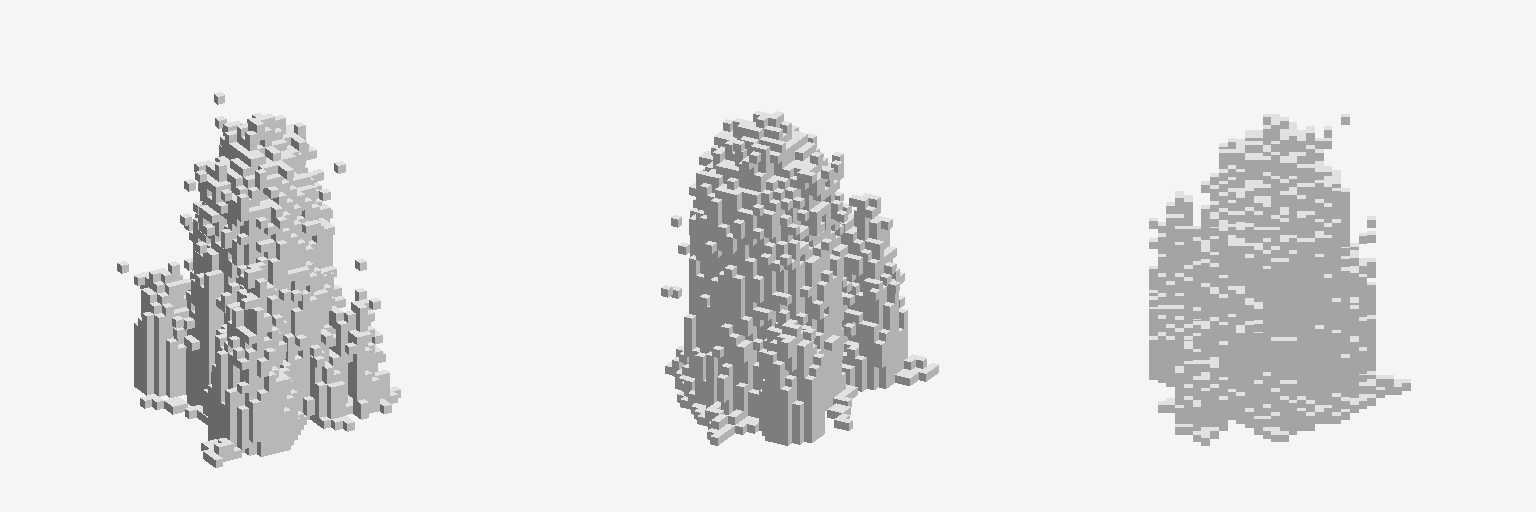
Rendered from Relic.obj.
The picture shows the model from 3 angles: view 1: azimuth 30°, elevation 25°; view 2: azimuth 150°, elevation 25°; view 3: azimuth 270°, elevation 25°; orthographic projection.
Bounding box in the file's own units: 28 × 35 × 30.